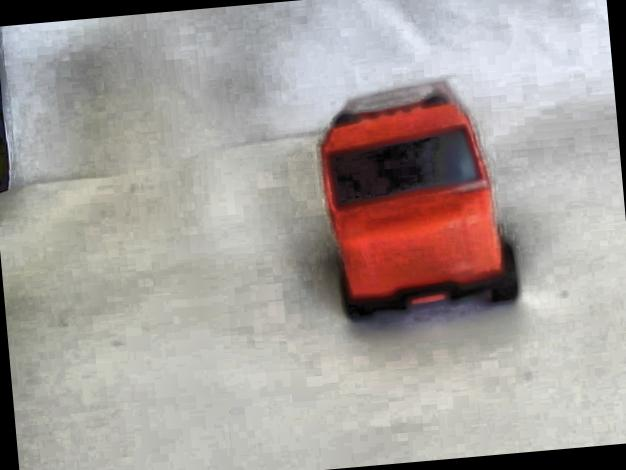fire_truck: (308, 75, 520, 324)
